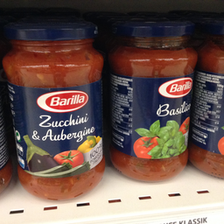tomato_sauce: (1, 25, 108, 201), (107, 22, 198, 184)
